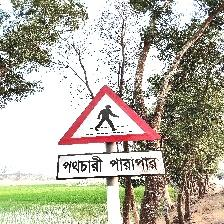Pedestrian-crossing: (56, 84, 164, 180)
